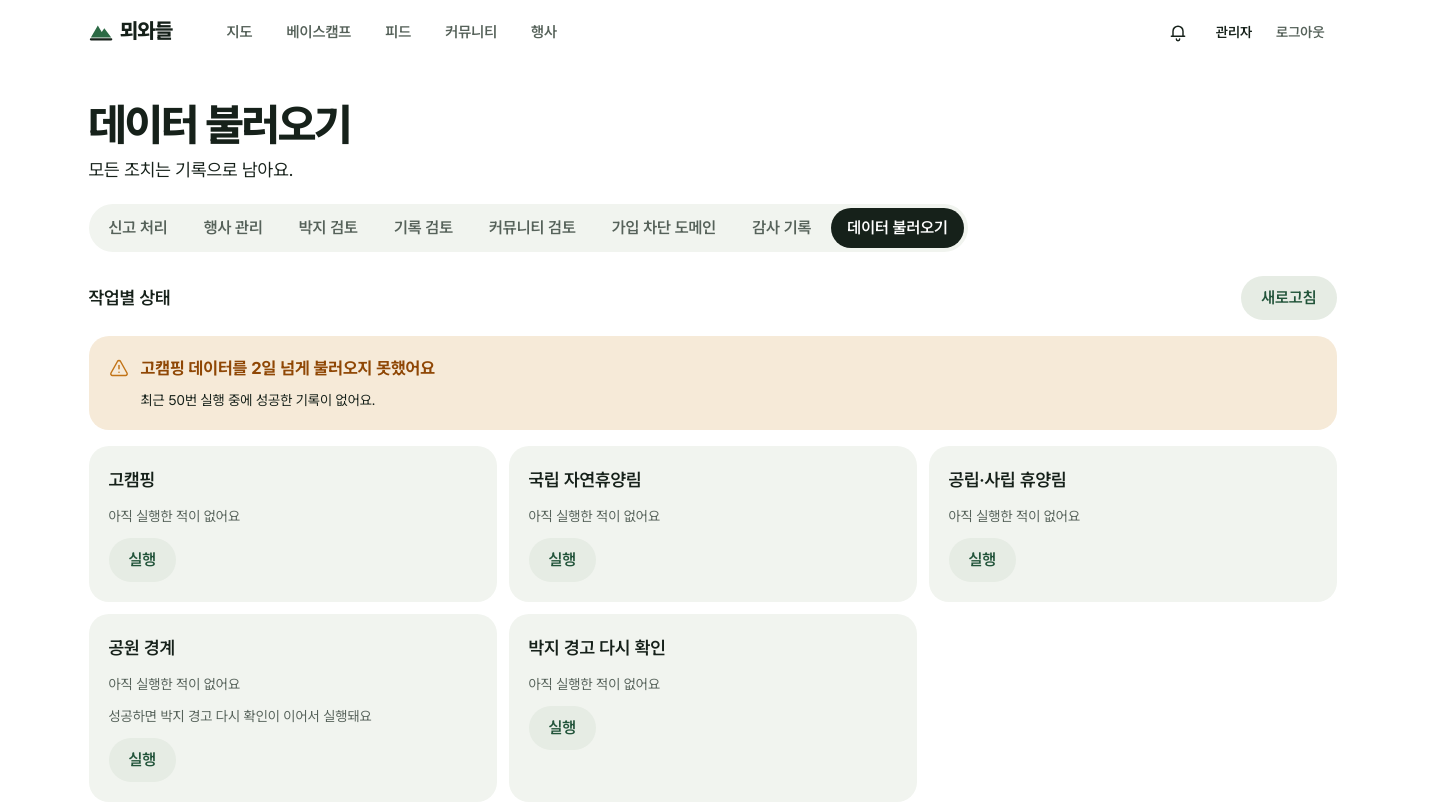
Test: 관리자 데이터 불러오기 › 대화상자에서 실행을 확인하면 그 작업 종류로 시작을 요청하고 카드와 기록을 다시 받아 온다
Click the 3rd button "실행" at (982,560), box [948,538,1016,582]
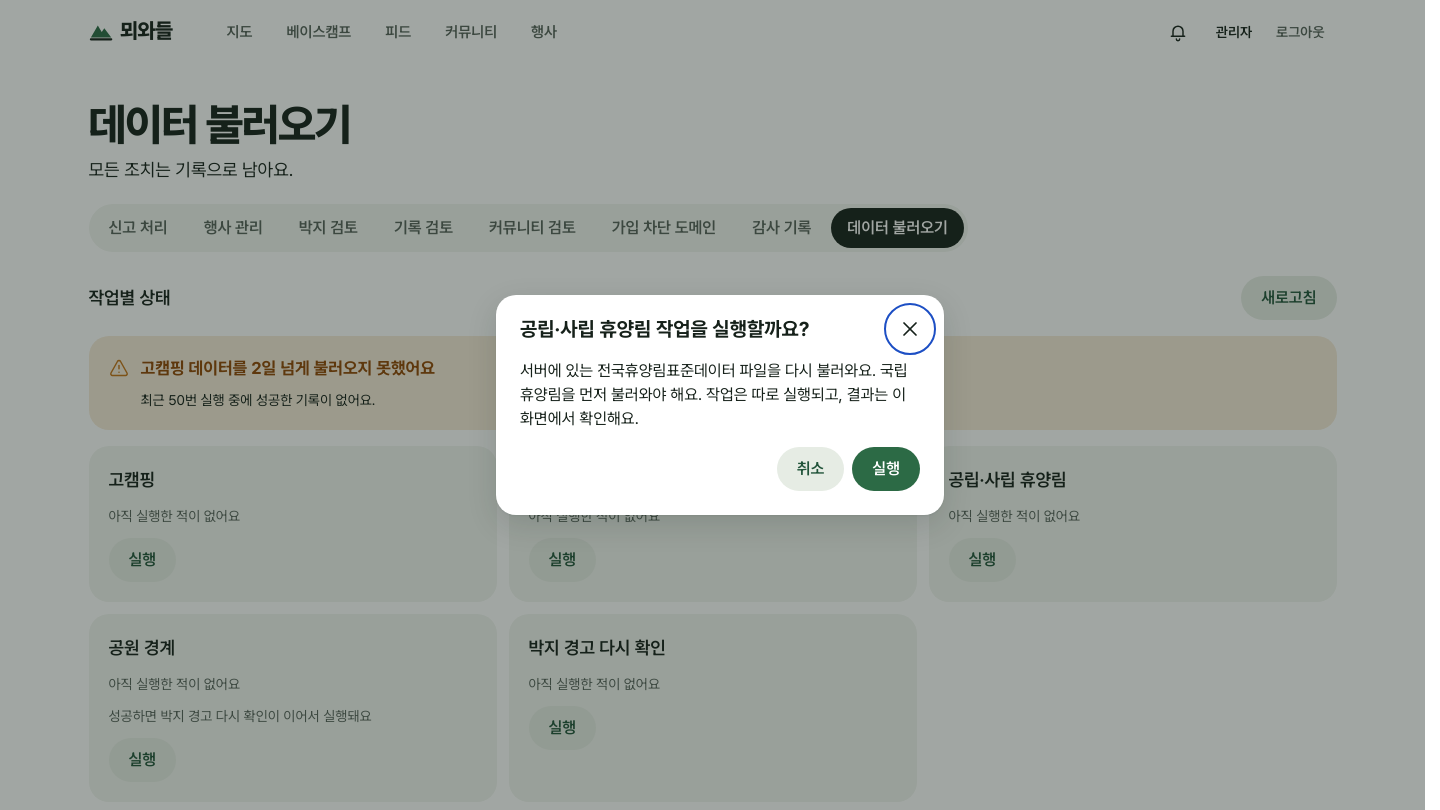
Click the button "실행" at (886,469), box [852,447,920,491]
(page scrolled)
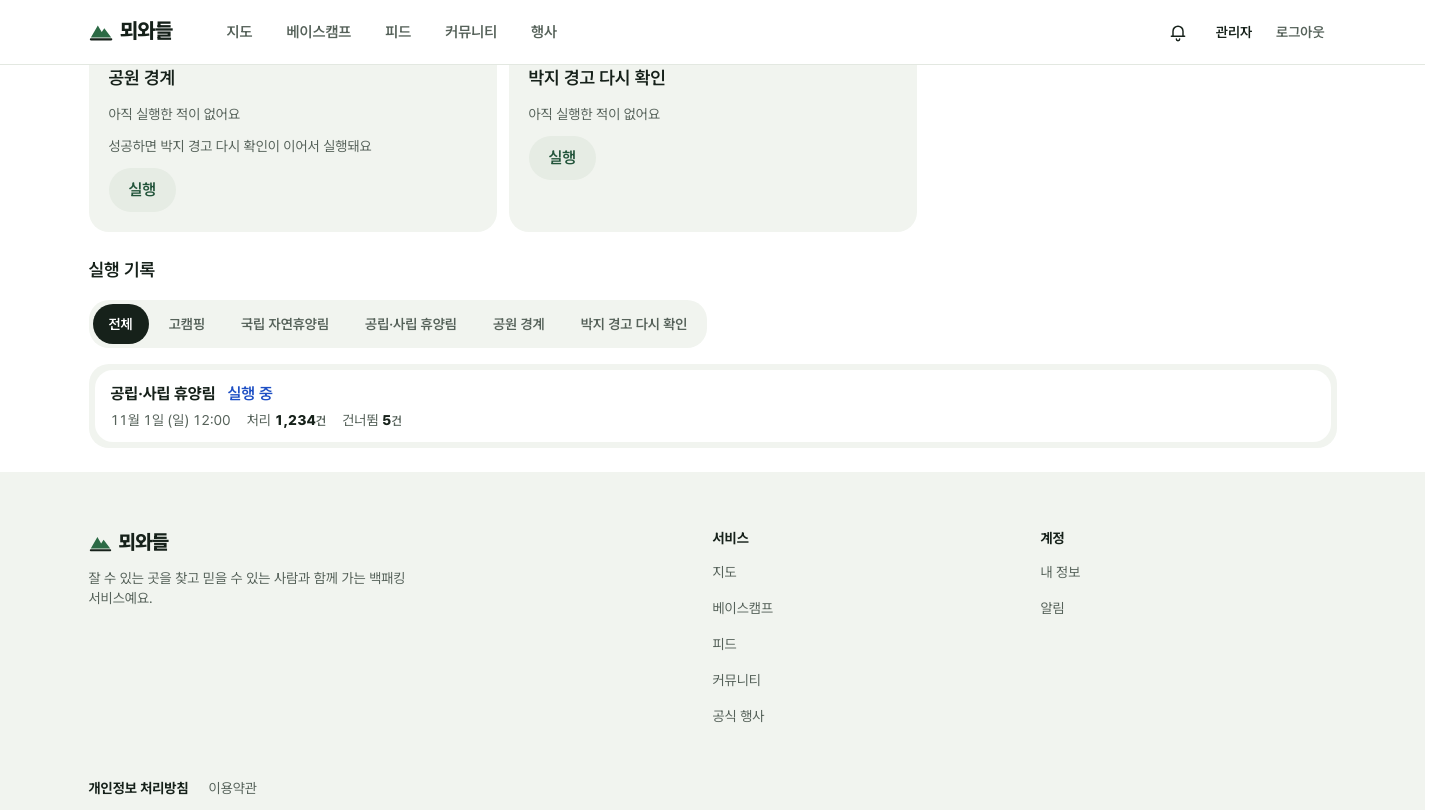
Expected: the dialog is gone
Expected: the list item "공립·사립 휴양림 실행 중 11월 1일 (일) 12:00 처리 1,234건 건너뜀 5건" is shown, [94,370,1330,442]
